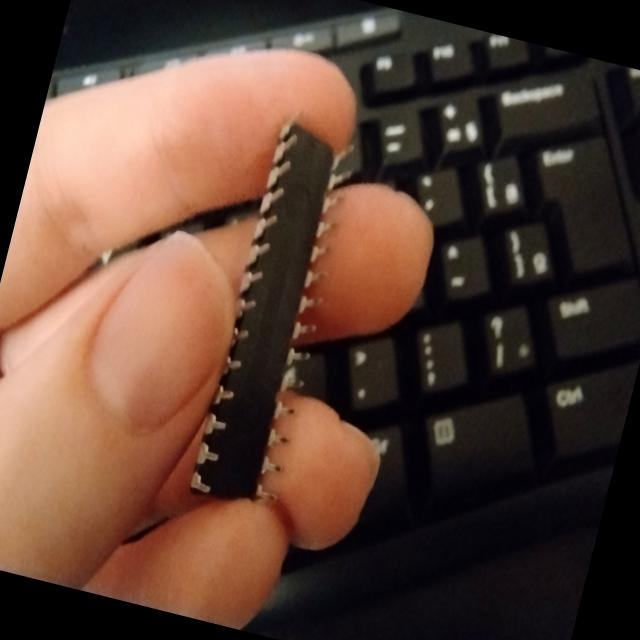atmega: (180, 106, 372, 514)
